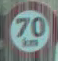Speed limit: (7, 3, 53, 55)
